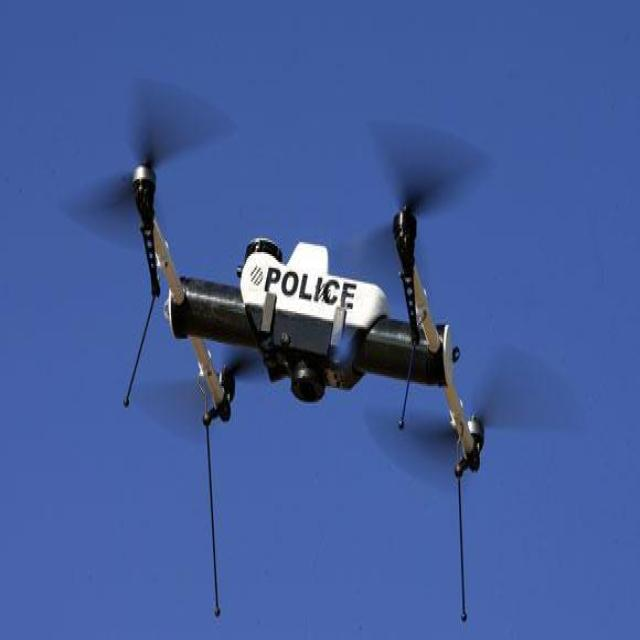drone: (123, 85, 492, 625)
